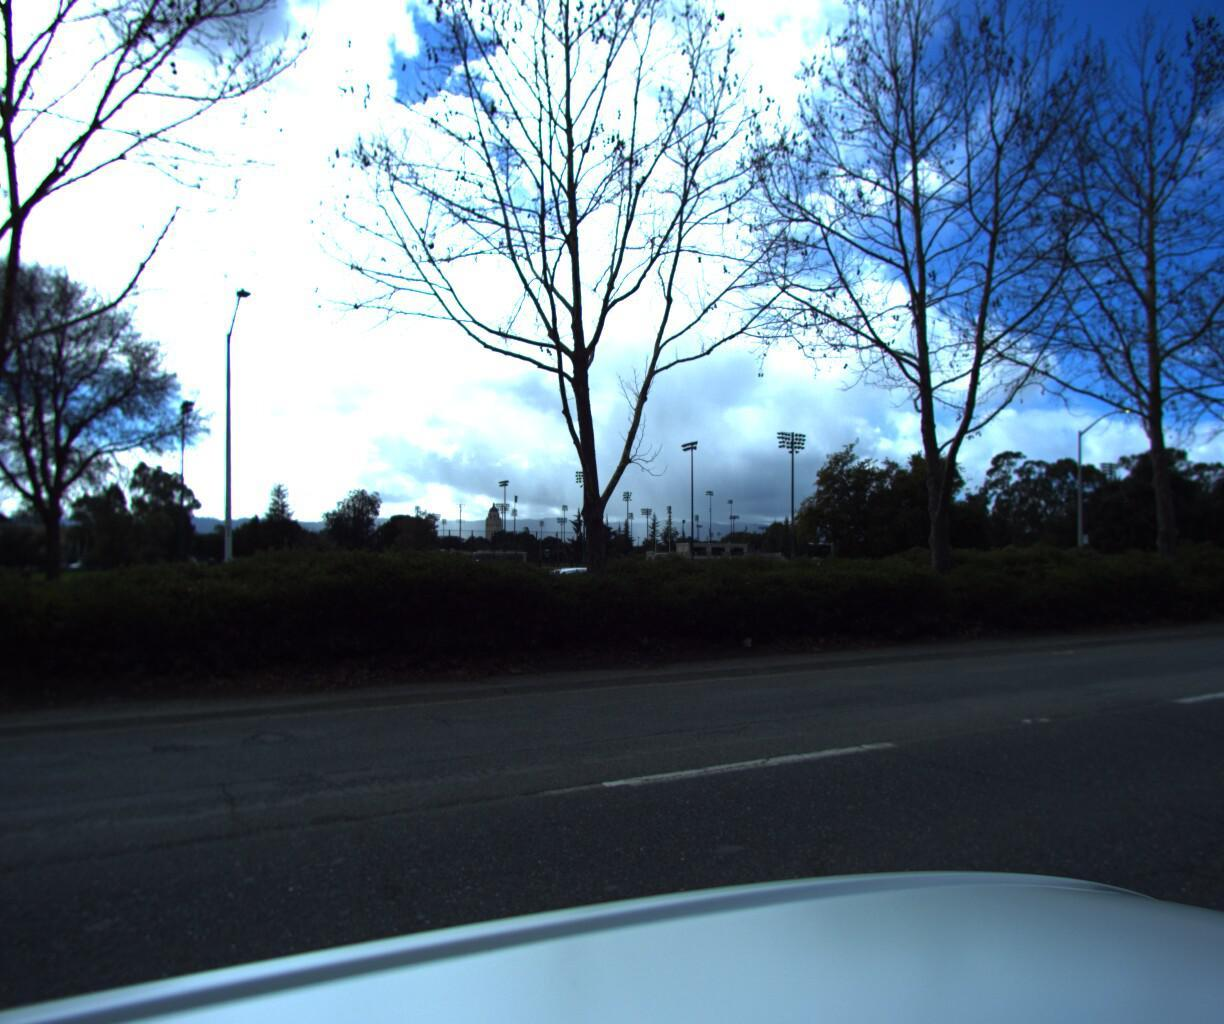car: (534, 569, 720, 633)
